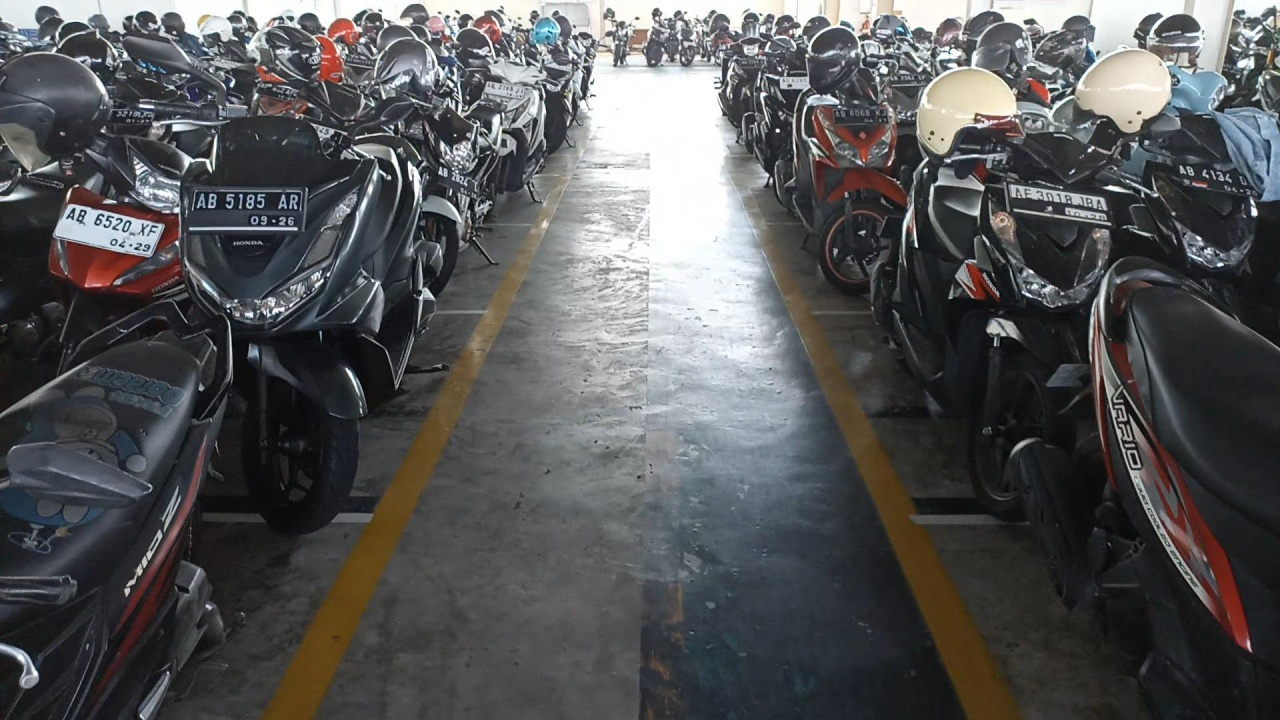plate: (53, 203, 165, 257), (187, 187, 305, 232), (1006, 183, 1114, 227), (1176, 162, 1260, 196), (437, 165, 479, 201), (833, 108, 890, 126), (483, 81, 525, 99)
